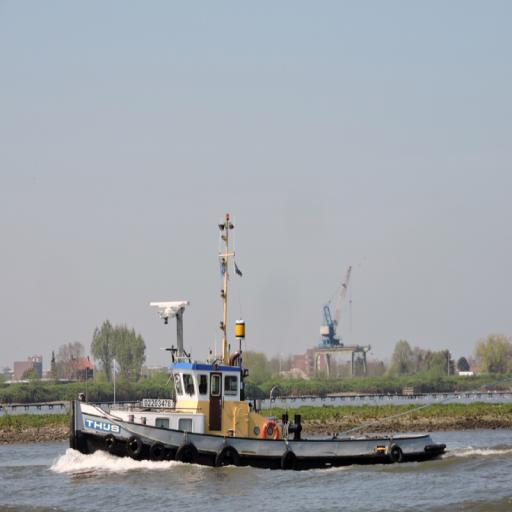tugboat: (66, 297, 452, 476)
